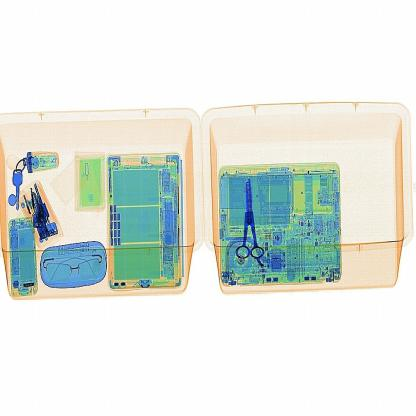gun: (234, 173, 266, 267)
